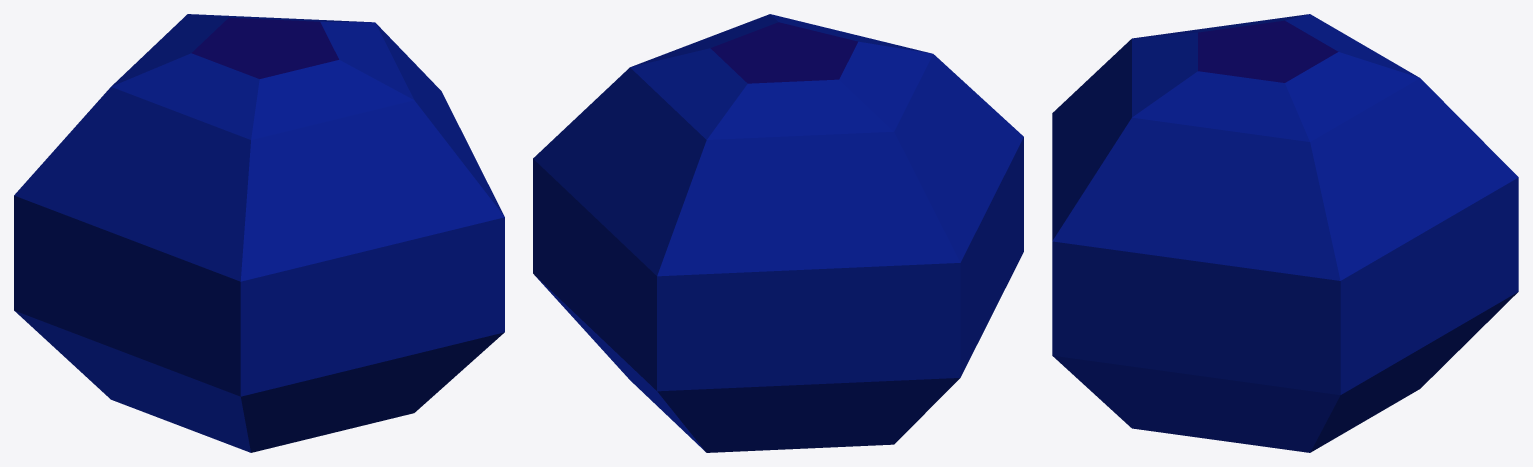
File: blueberry01.gltf
The picture shows the model from 3 angles, left to right: view 1: azimuth 30°, elevation 25°; view 2: azimuth 150°, elevation 25°; view 3: azimuth 270°, elevation 25°; orthographic projection.
Visible parts, largest first — view 1: Sphere.001; view 2: Sphere.001; view 3: Sphere.001.
Boxes of the visible parts, <box> form: Sphere.001: <box>14,14,504,452</box>; Sphere.001: <box>533,14,1023,452</box>; Sphere.001: <box>1052,14,1518,452</box>.
Size of the model in its own units: 0.0162 by 0.0128 by 0.0154.
1 material, 1 textured.
